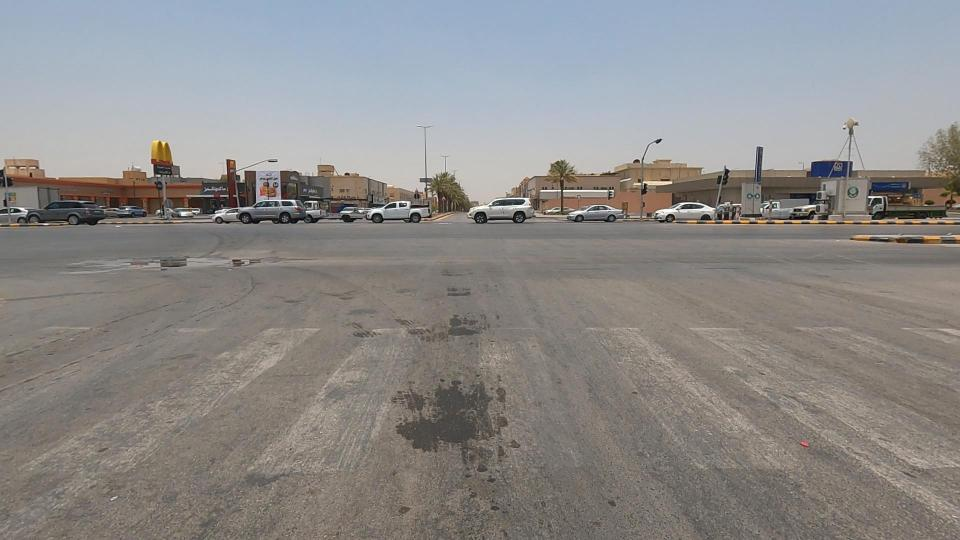POTHOLES: (146, 223, 290, 287)
